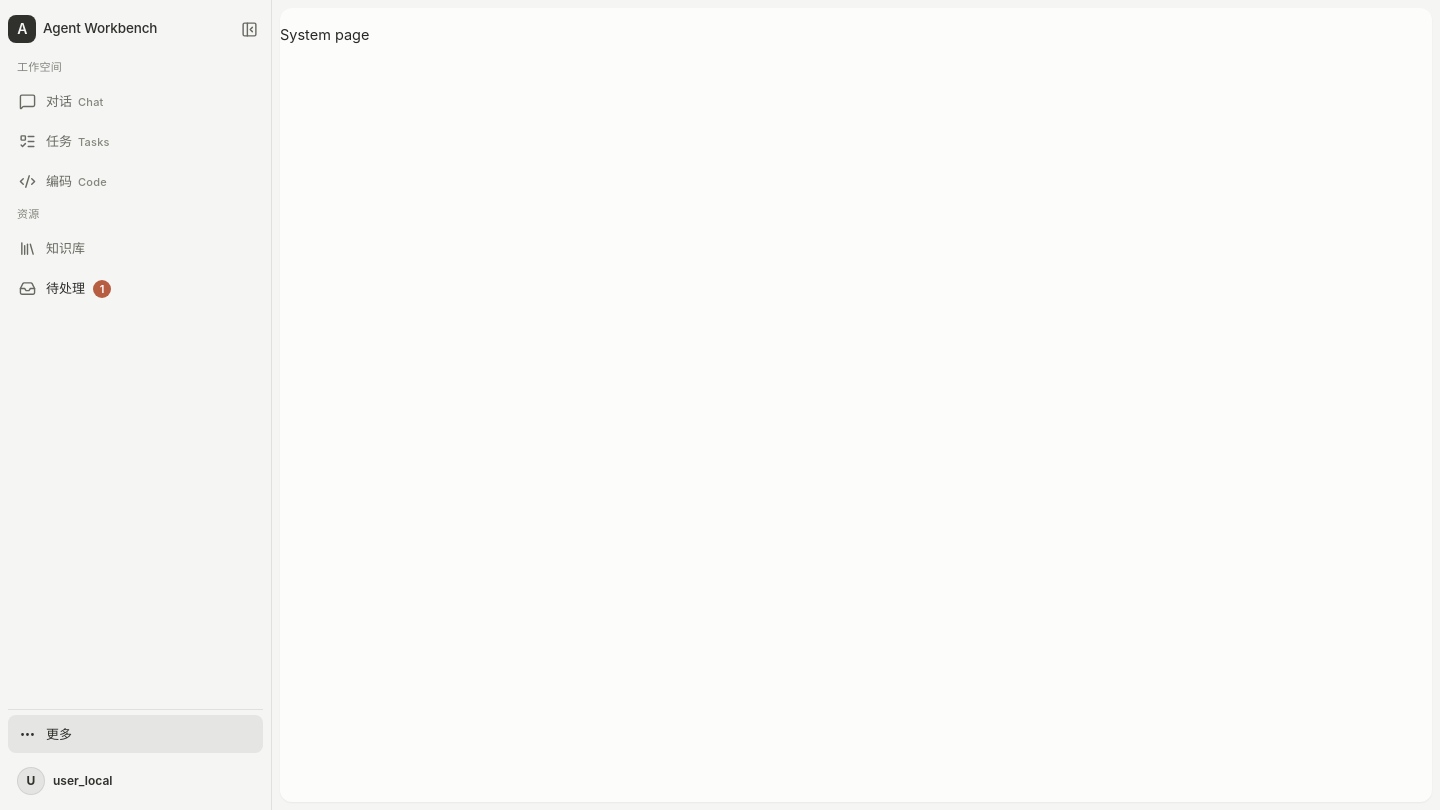
Test: AppShell 待处理 › 从任何一页都看得见等你批准的任务，点进去就是那个任务
Click the button with aria-label "待处理，1 项": click(136, 288) [8,269,263,307]
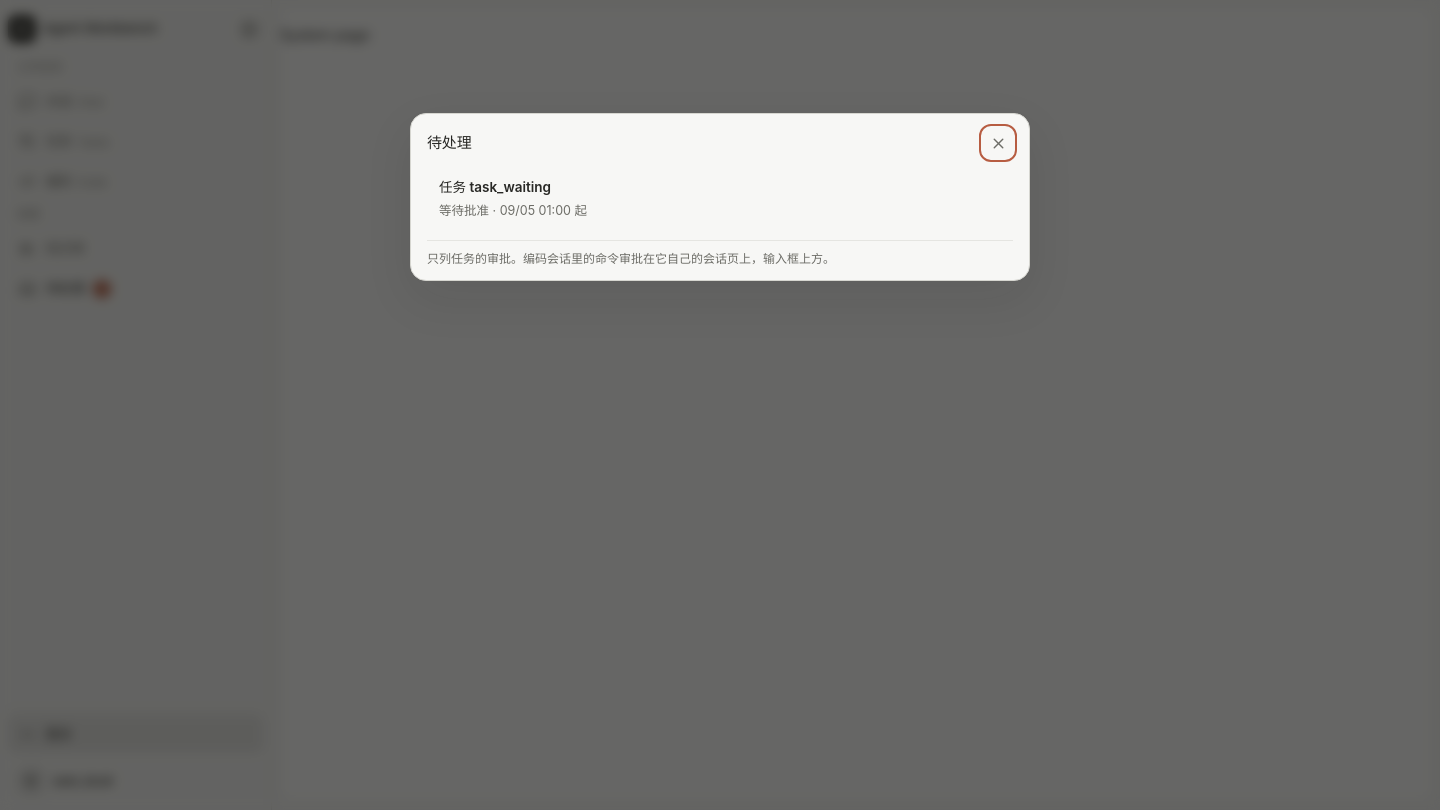
expect the text "只列任务的审批。编码会话里的命令审批在它自己的会话页上，输入框上方。" is shown: met, box [427,240,1013,268]
Click the link "任务 task_waiting 等待批准 · 09/05 01:00 起": click(454, 187) [439,179,587,218]
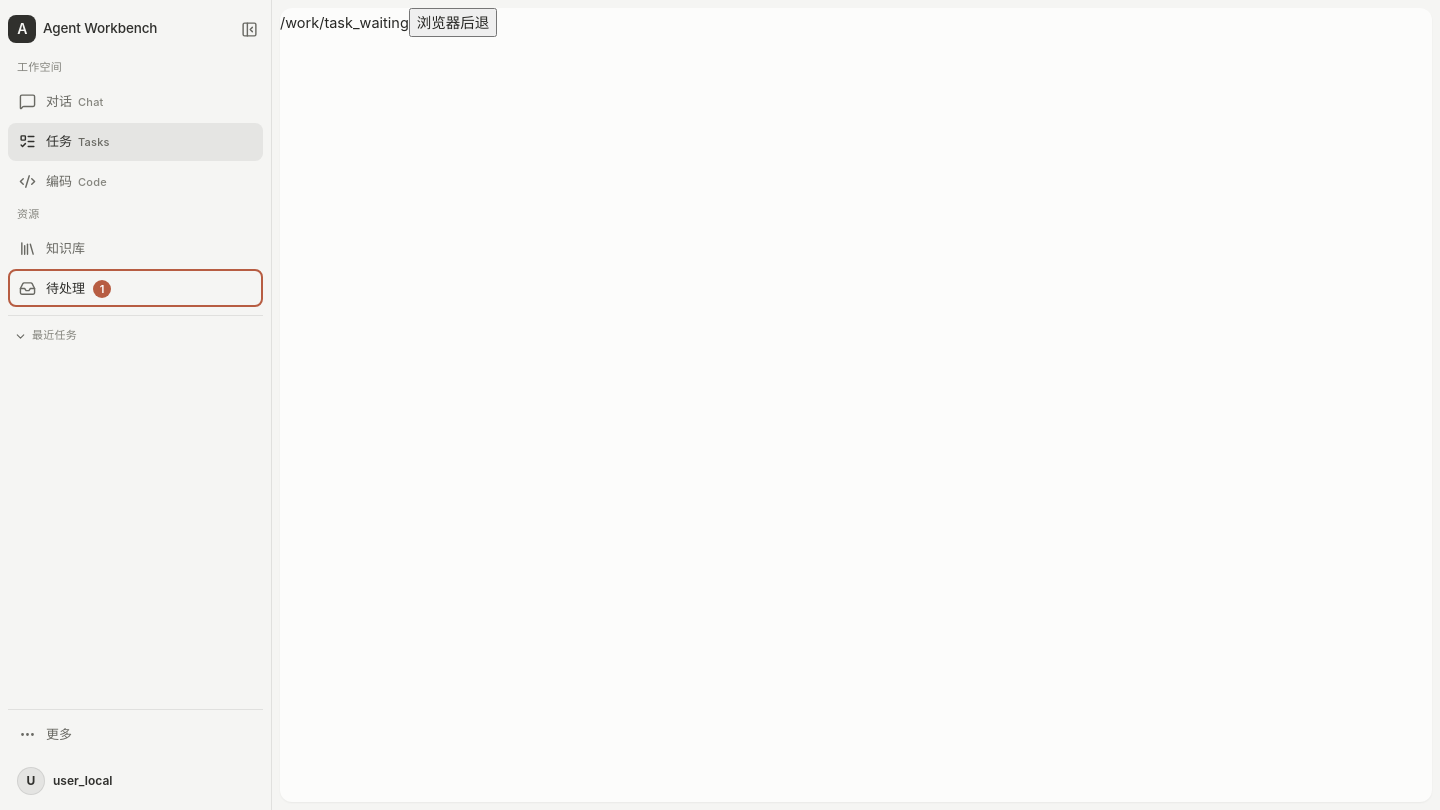
expect the text named "当前路径" reads "/work/task_waiting": met, box [280,14,409,31]
